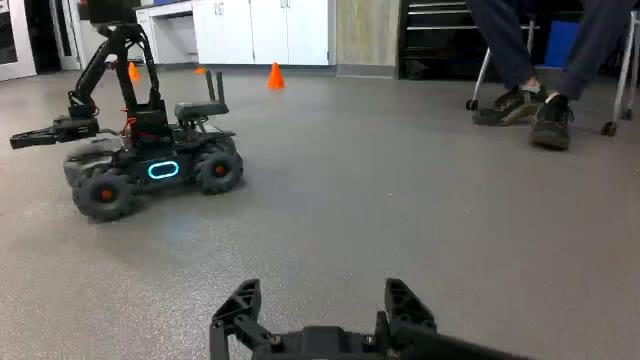robot: (8, 12, 264, 217)
